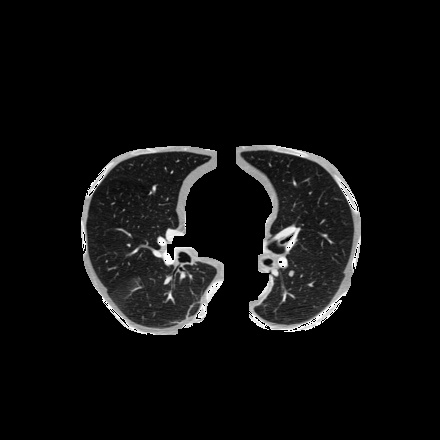PN: (288, 270, 294, 276)
